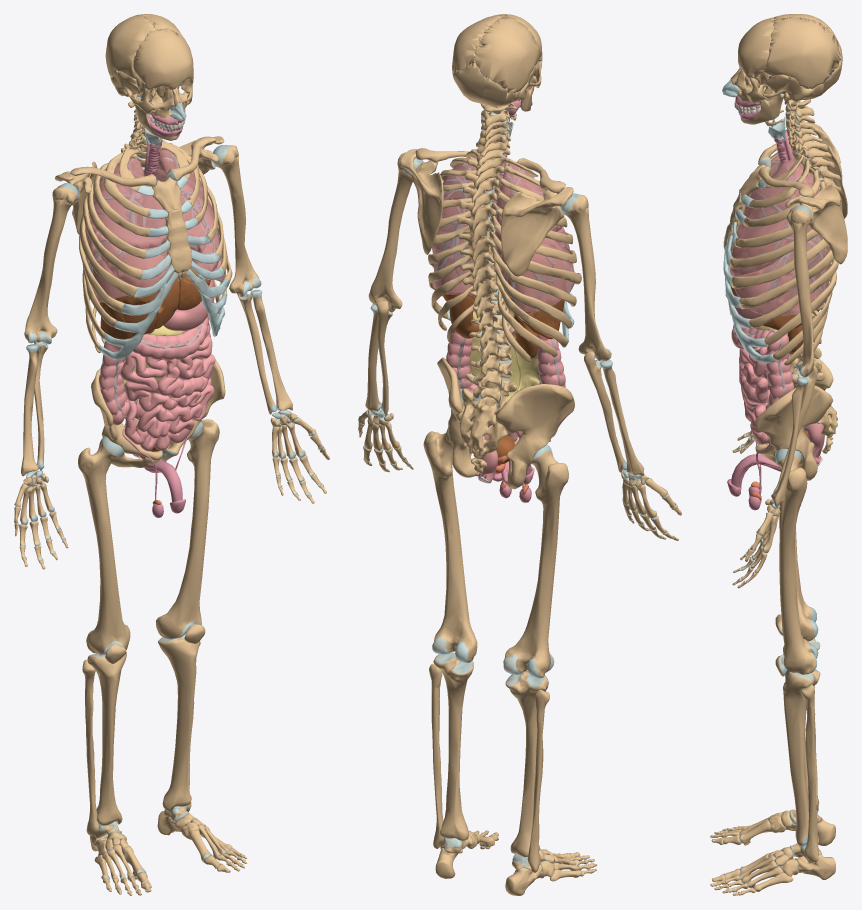
The model's file is viscera.glb.
3 views of the same model, side by side, from view 1: azimuth 30°, elevation 25°; view 2: azimuth 150°, elevation 25°; view 3: azimuth 270°, elevation 25° (orthographic). The views are drawn at different scales.
Parts seen in each view (by area): view 1: Object_8, Object_53, Object_41, Object_59, Object_70, Object_66, Object_2; view 2: Object_8, Object_59, Object_41, Object_53, Object_70, Object_2, Object_77, Object_66; view 3: Object_8, Object_59, Object_41, Object_53, Object_66, Object_2, Object_70.
Boxes of the visible parts, <box> form: Object_8: <box>14,14,329,895</box>; Object_53: <box>99,280,215,456</box>; Object_41: <box>14,95,323,891</box>; Object_59: <box>85,149,225,418</box>; Object_70: <box>99,259,210,451</box>; Object_66: <box>122,108,194,517</box>; Object_2: <box>89,29,221,504</box>; Object_8: <box>358,14,681,895</box>; Object_59: <box>432,155,574,389</box>; Object_41: <box>360,89,676,877</box>; Object_53: <box>446,311,565,482</box>; Object_70: <box>443,293,564,463</box>; Object_2: <box>435,15,565,495</box>; Object_77: <box>469,311,539,434</box>; Object_66: <box>465,87,534,502</box>; Object_8: <box>710,14,847,895</box>; Object_59: <box>729,155,830,436</box>; Object_41: <box>715,79,823,894</box>; Object_53: <box>731,295,824,464</box>; Object_66: <box>727,95,794,510</box>; Object_2: <box>735,18,840,500</box>; Object_70: <box>729,251,807,443</box>.
Size of the model in its own units: 0.6692 by 1.7 by 0.25.
9 materials, 9 textured.
